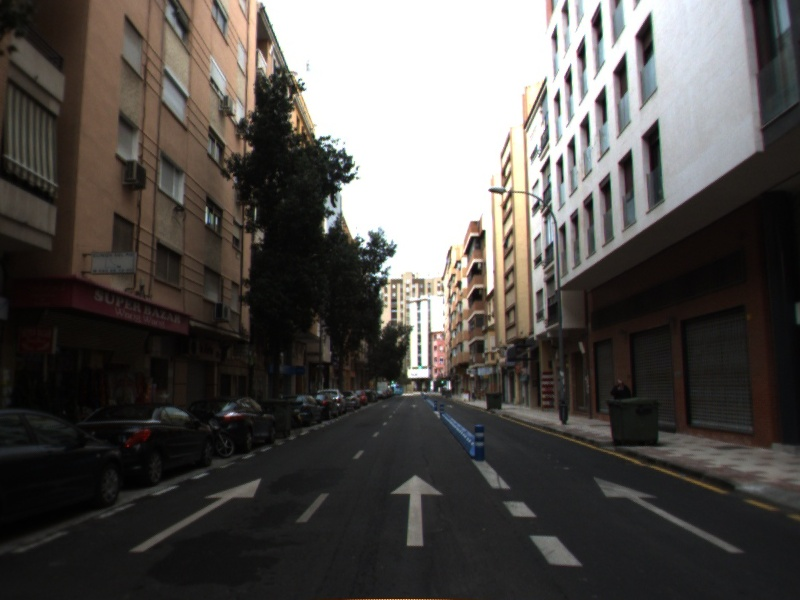STRAIGHT: (592, 475, 745, 555), (127, 476, 263, 554), (389, 473, 445, 548)
